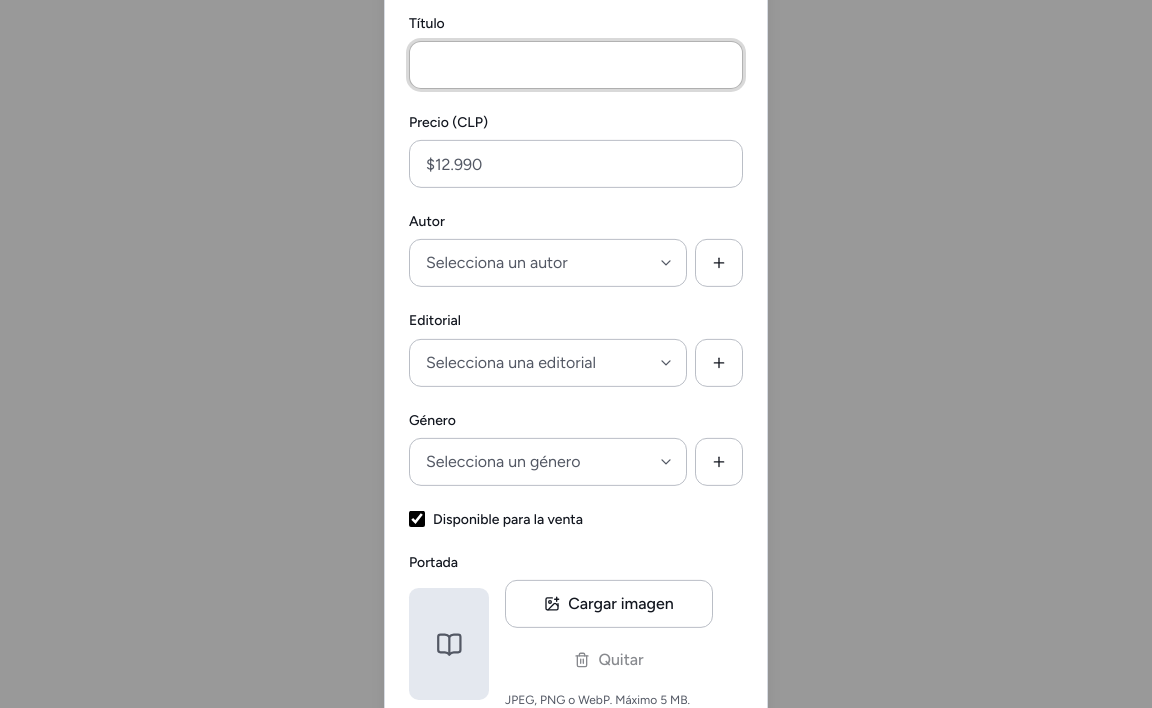
Test: BookFormPanel › alta de un autor desde el formulario › cancelar cierra el diálogo sin crear nada
Click the button named "Agregar autor".
click(719, 263)  # box [695,239,743,287]
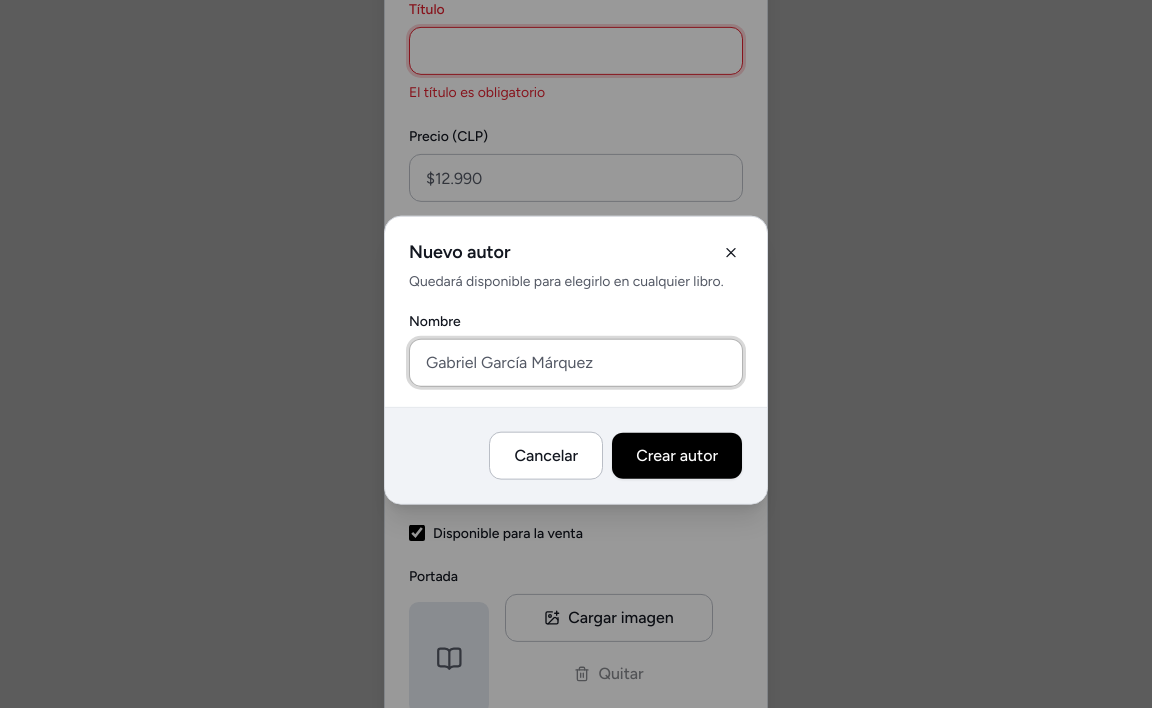
Click the button "Cancelar".
click(546, 455)  # box [490,431,603,479]
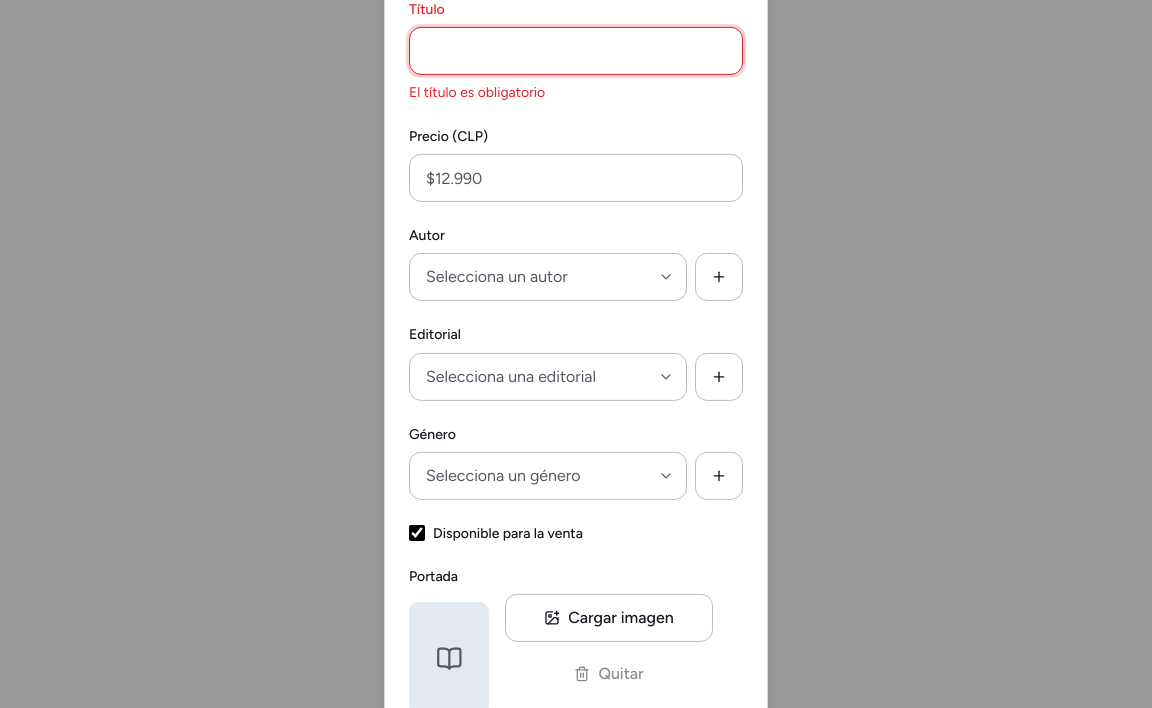
Expected: the heading "Nuevo autor" is gone
